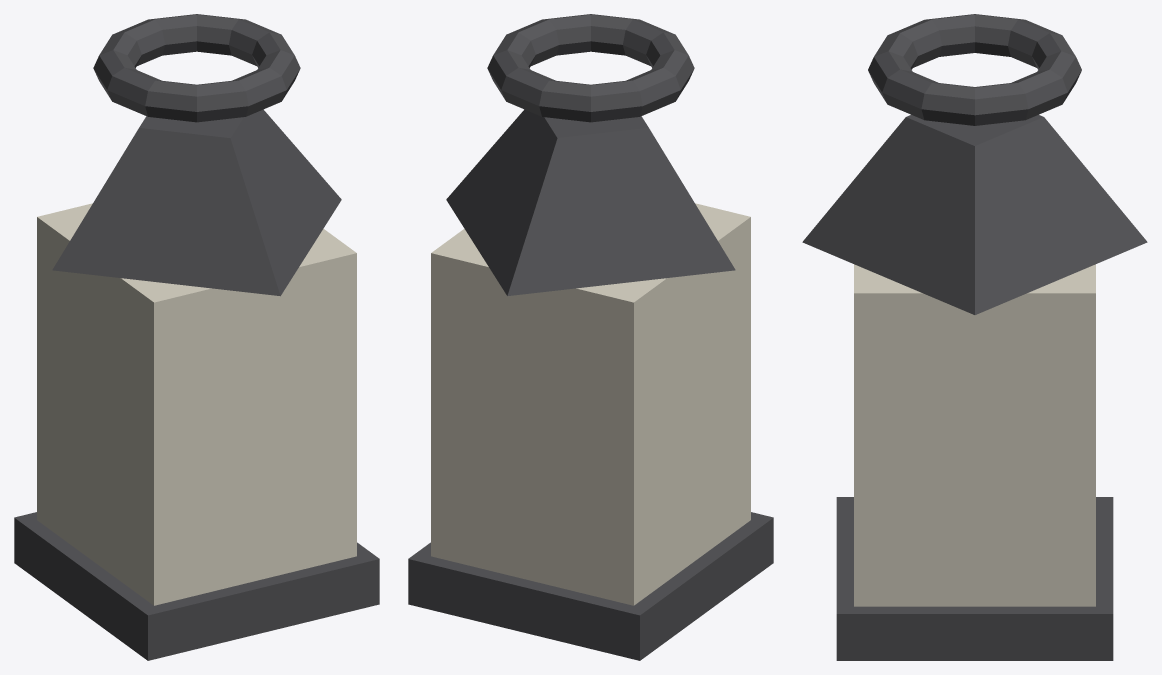
File: ilu_lanterna.glb
The picture shows the model from 3 angles, left to right: view 1: azimuth 30°, elevation 25°; view 2: azimuth 150°, elevation 25°; view 3: azimuth 270°, elevation 25°; orthographic projection. The views are drawn at different scales.
Visible parts, largest first — view 1: ILU_Lanterna_v01; view 2: ILU_Lanterna_v01; view 3: ILU_Lanterna_v01.
Boxes of the visible parts, bbox=[...] form: ILU_Lanterna_v01: bbox=[14, 14, 379, 660]; ILU_Lanterna_v01: bbox=[408, 14, 773, 660]; ILU_Lanterna_v01: bbox=[802, 14, 1147, 660].
Size of the model in its own units: 0.2 by 0.352 by 0.2.
